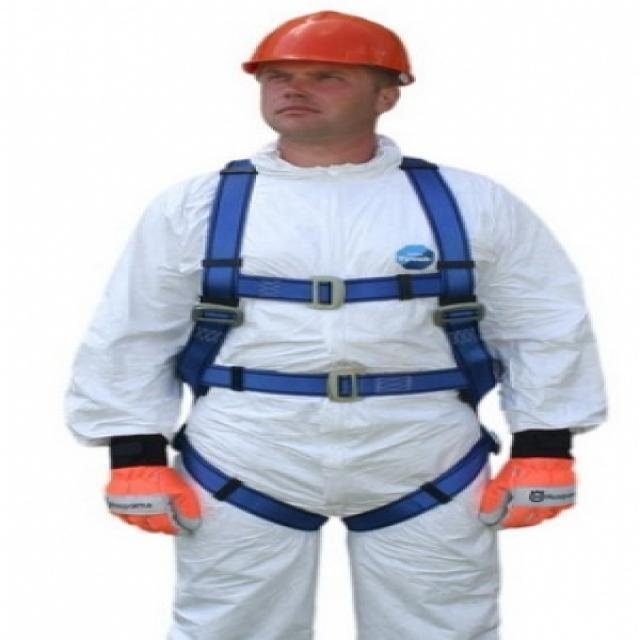Arnes_seguridad: (156, 144, 502, 550)
